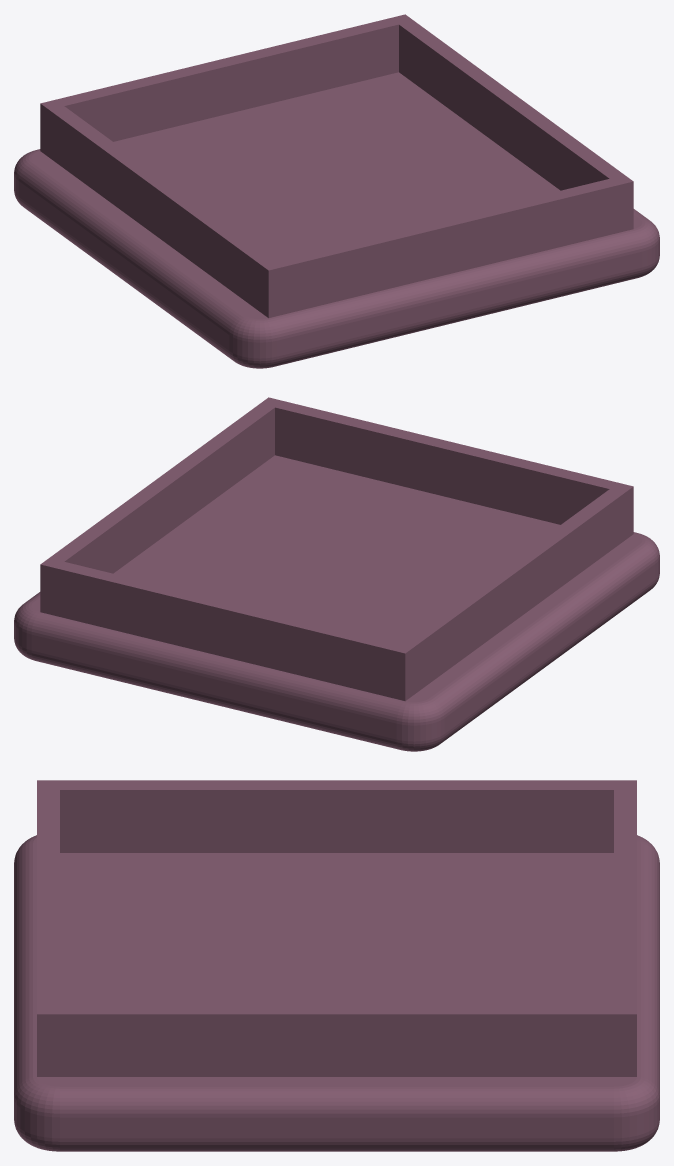
The model's file is sliding_cube.dae.
3 renders of one model, top to bottom at view 1: azimuth 30°, elevation 25°; view 2: azimuth 150°, elevation 25°; view 3: azimuth 270°, elevation 25°, orthographic. The views are drawn at different scales.
Visible parts, largest first — view 1: 滑块; view 2: 滑块; view 3: 滑块.
Boxes of the visible parts, x1,y1,x2,y2 form: 滑块: [14, 14, 659, 368]; 滑块: [14, 397, 659, 751]; 滑块: [14, 780, 659, 1151].
Size of the model in its own units: 0.14 by 0.14 by 0.03.
